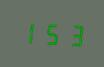five: (41, 19, 62, 47)
one: (18, 18, 39, 46)
three: (63, 20, 84, 48)
